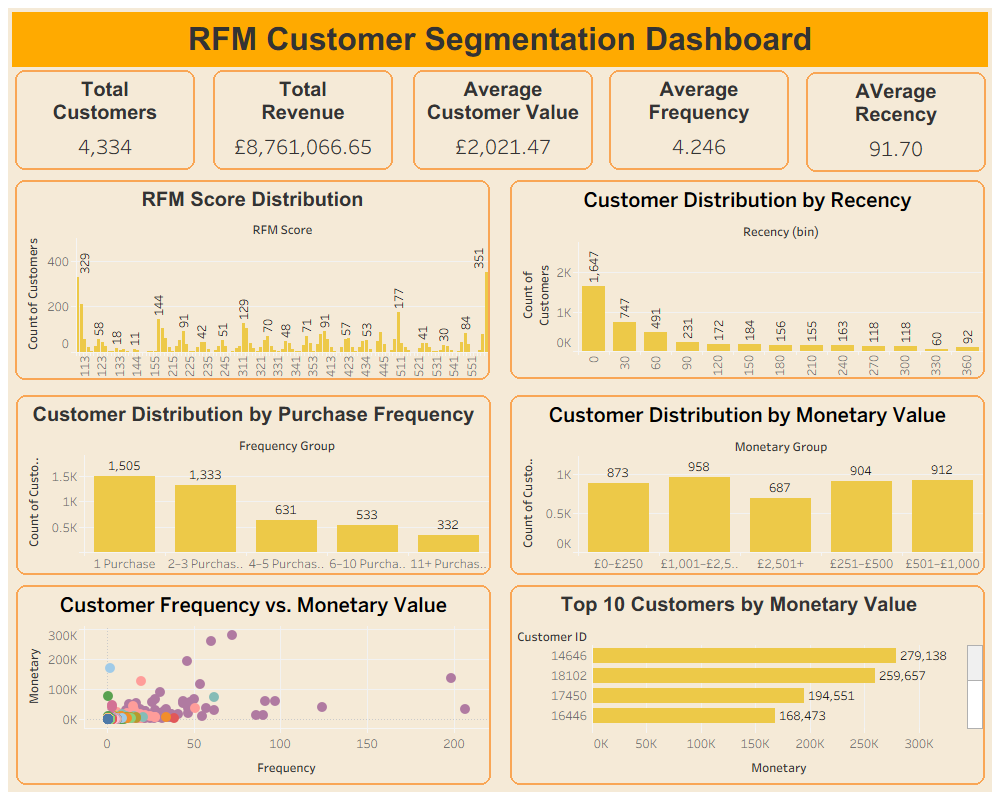

The page's visual inventory and layout, read from the dashboard file:
{"tool":"tableau","page":{"name":"RFM Customer Segmentation Dashboard","canvas":[1000,800],"ordinal":0},"visuals":[{"type":"title","box":[8,8,984,63]},{"type":"worksheet","title":"KPI-Total Customers","mark":"Text","box":[15,70,180,100]},{"type":"worksheet","title":"KPI-Total Revenue","mark":"Automatic","box":[213,70,180,100]},{"type":"worksheet","title":"KPI-Average Customer Value","mark":"Automatic","box":[413,70,180,100]},{"type":"worksheet","title":"KPI-Average Frequency","mark":"Automatic","box":[609,70,180,100]},{"type":"worksheet","title":"KPI-Average Recency","mark":"Automatic","box":[806,72,180,100]},{"type":"worksheet","title":"RFM Score Distribution","mark":"Automatic","rows":["Customers_EAF477269C5948C3BC828208B03F5441"],"cols":["RFM_Score"],"box":[15,180,475,200]},{"type":"worksheet","title":"Customer Recency Distribution","mark":"Bar","rows":["Customers_EAF477269C5948C3BC828208B03F5441"],"cols":["Recency (bin)"],"box":[510,180,475,199]},{"type":"worksheet","title":"Customer Distribution by Purchase Frequency","mark":"Bar","rows":["Customers_EAF477269C5948C3BC828208B03F5441"],"cols":["Calculation_1290034031689729"],"box":[16,395,475,180]},{"type":"worksheet","title":"Customer Monetary Distribution","mark":"Bar","rows":["Customers_EAF477269C5948C3BC828208B03F5441"],"cols":["Calculation_1290034032537602"],"box":[510,395,475,180]},{"type":"worksheet","title":"Frequency vs. Monetary","mark":"Circle","rows":["Monetary"],"cols":["Frequency"],"box":[16,585,475,200]},{"type":"worksheet","title":"Top 10 Customers by Monetary Value","mark":"Automatic","rows":["CustomerID"],"cols":["Monetary"],"box":[510,585,475,200]}]}

Visuals, with their boxes in screenshot pixels (x1, y1, x2, y2), scaled from the page's 1000x800 canvas onto the 1000x800 screenshot:
title: locate(8, 8, 992, 71)
"KPI-Total Customers" worksheet (Text marks): locate(15, 70, 195, 170)
"KPI-Total Revenue" worksheet: locate(213, 70, 393, 170)
"KPI-Average Customer Value" worksheet: locate(413, 70, 593, 170)
"KPI-Average Frequency" worksheet: locate(609, 70, 789, 170)
"KPI-Average Recency" worksheet: locate(806, 72, 986, 172)
"RFM Score Distribution" worksheet: locate(15, 180, 490, 380)
"Customer Recency Distribution" worksheet (Bar marks): locate(510, 180, 985, 379)
"Customer Distribution by Purchase Frequency" worksheet (Bar marks): locate(16, 395, 491, 575)
"Customer Monetary Distribution" worksheet (Bar marks): locate(510, 395, 985, 575)
"Frequency vs. Monetary" worksheet (Circle marks): locate(16, 585, 491, 785)
"Top 10 Customers by Monetary Value" worksheet: locate(510, 585, 985, 785)
